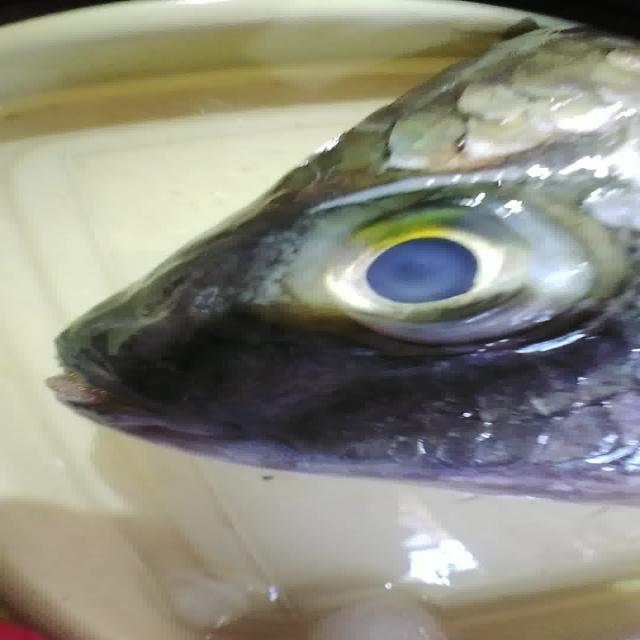Fresh: (282, 189, 622, 354)
